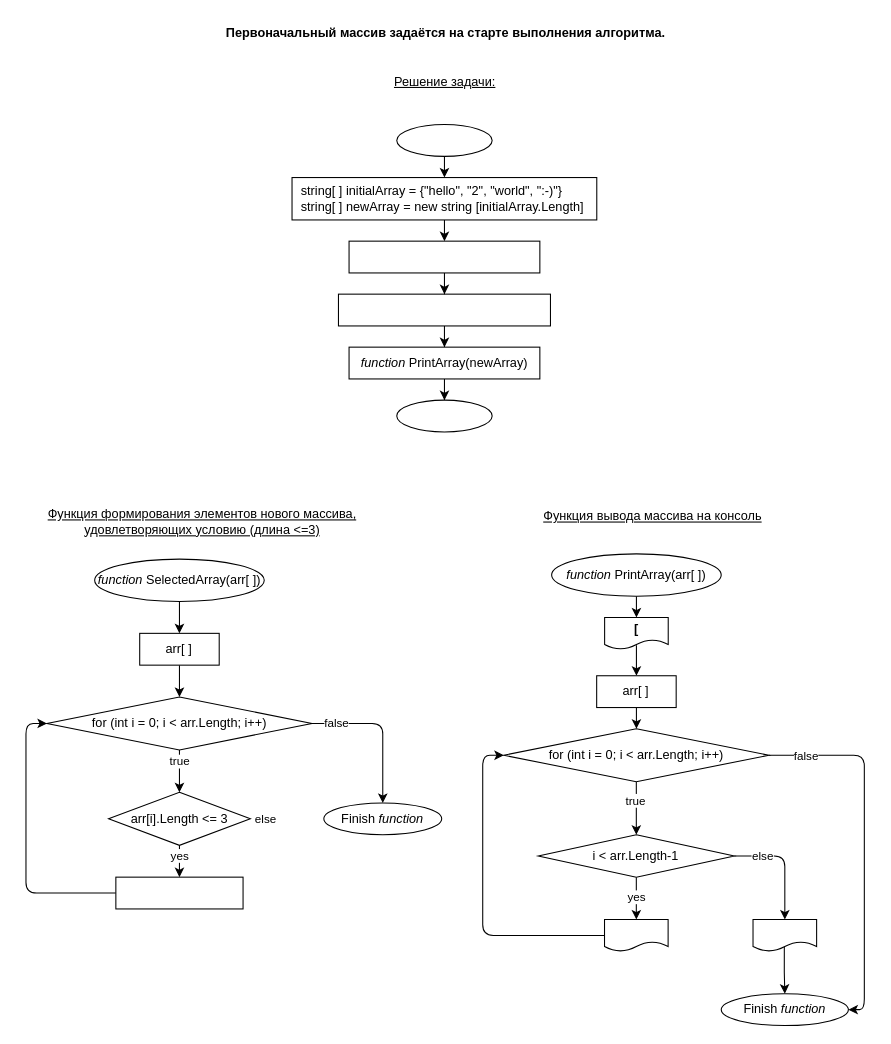
Some shapes in this 891 by 1044 pixel diagram are drawn without their labels. Here are the shapes that lost their labels. From the top down, the box of each, then its label:
(396, 123, 492, 156): Start
(348, 240, 540, 273): function PrintArray(initialArray)
(337, 293, 550, 326): function SelectedArray(initialArray)
(396, 399, 492, 432): Finish
(115, 876, 243, 909): newArray[i] = arr[i]
(603, 918, 668, 951): arr[i] ,
(752, 918, 817, 951): arr[i] ]
